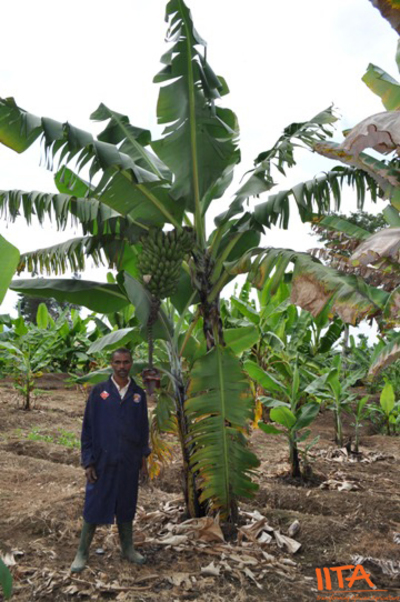bananaHand: (135, 225, 195, 303)
